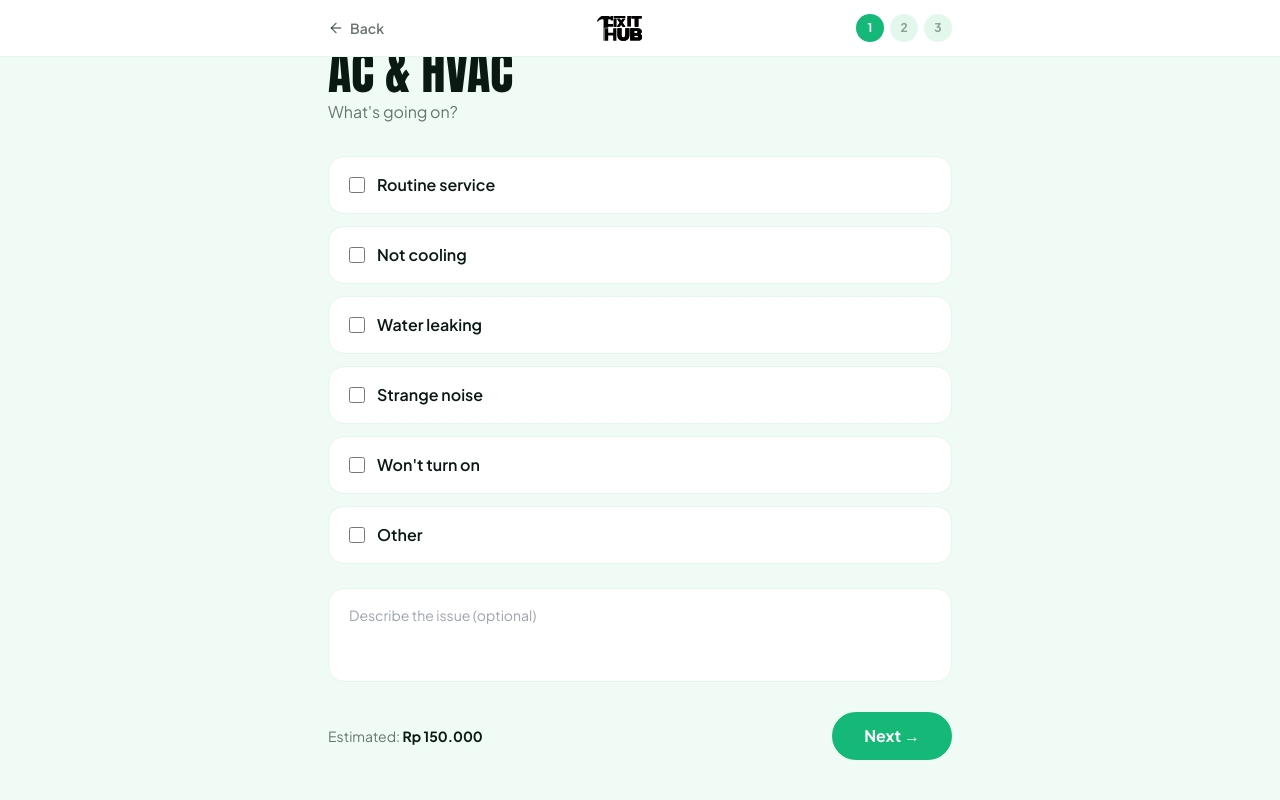
Booking — Step 3 › shows the confirm heading and Tower 1 ITS address
This screenshot has width=1280, height=800.
(page scrolled)
Click the button "Next →".
click(892, 736)  # box [832, 712, 952, 760]
(page scrolled)
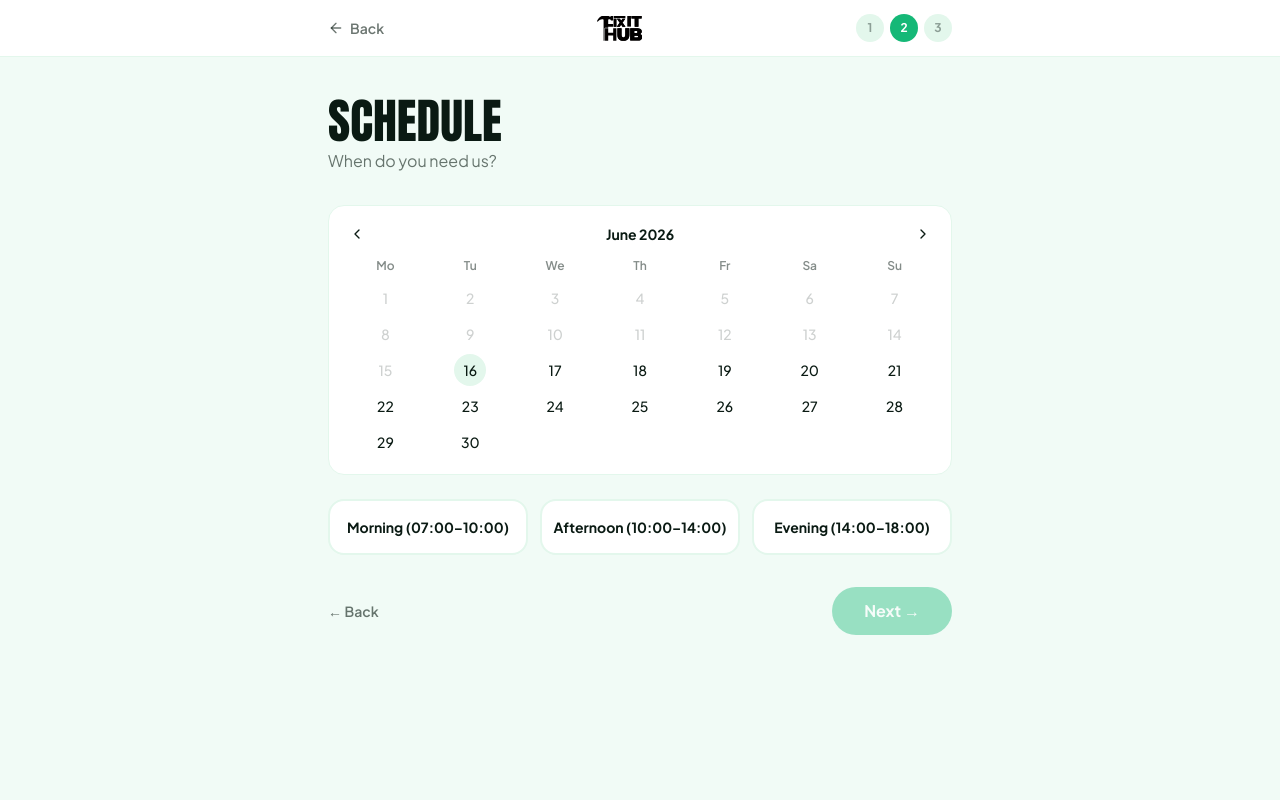
Click the button "16".
click(470, 370)  # box [454, 354, 486, 386]
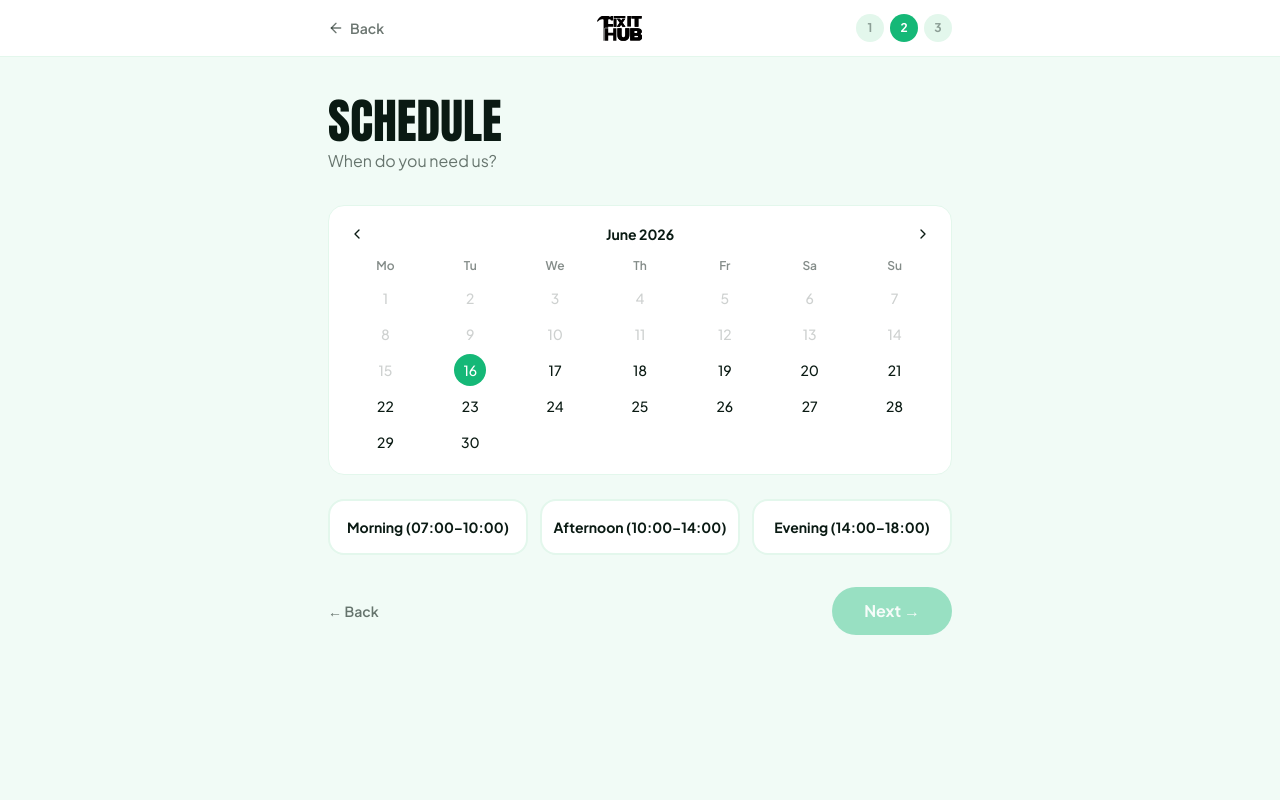
Click the button "Morning (07:00–10:00)".
click(428, 527)  # box [328, 499, 528, 555]
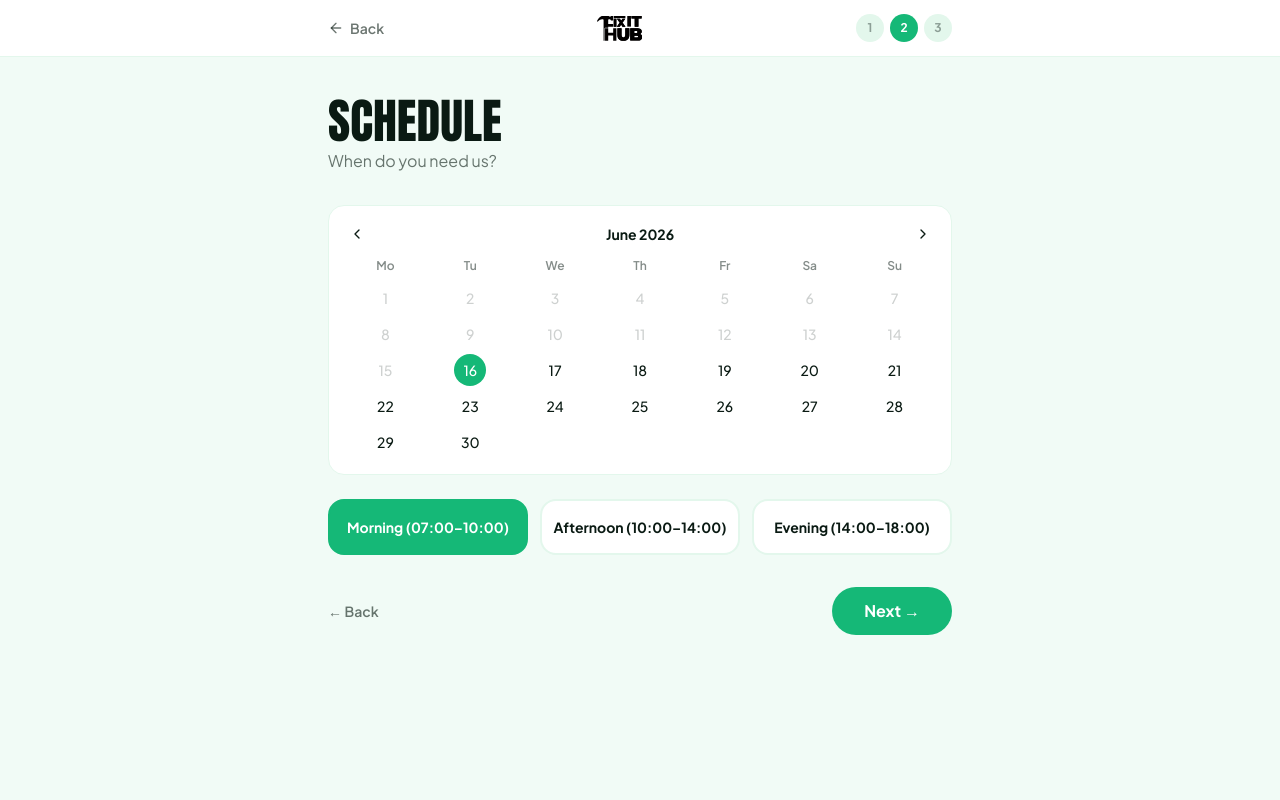
Click the button "Next →".
click(892, 611)  # box [832, 587, 952, 635]
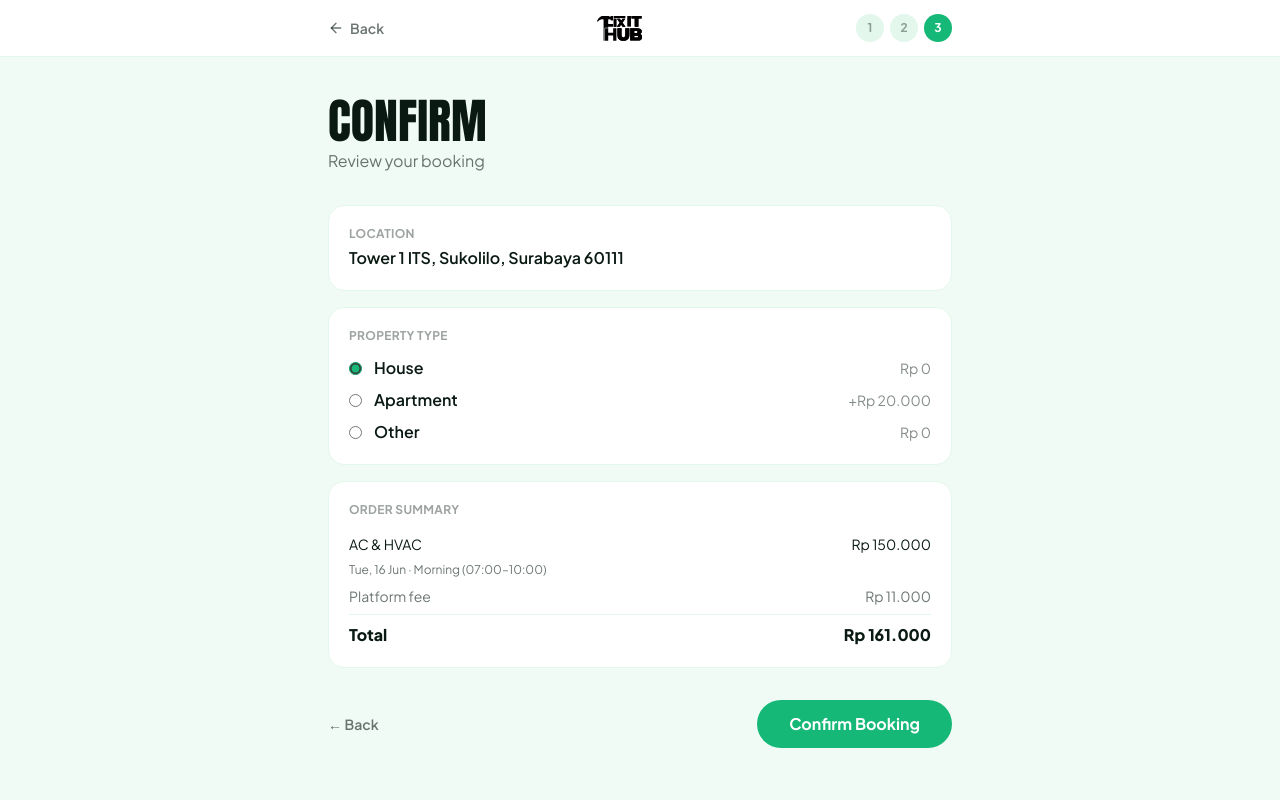
Result: the heading "Confirm" is shown at [328, 85, 487, 157]
Result: the text "Tower 1 ITS, Sukolilo, Surabaya 60111" is shown at [349, 247, 624, 268]
